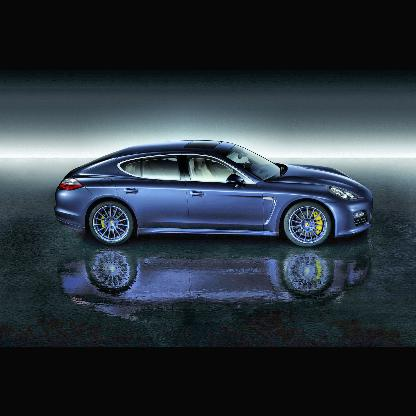Porsche Panamera Sedan 2012: (55, 140, 376, 255)
